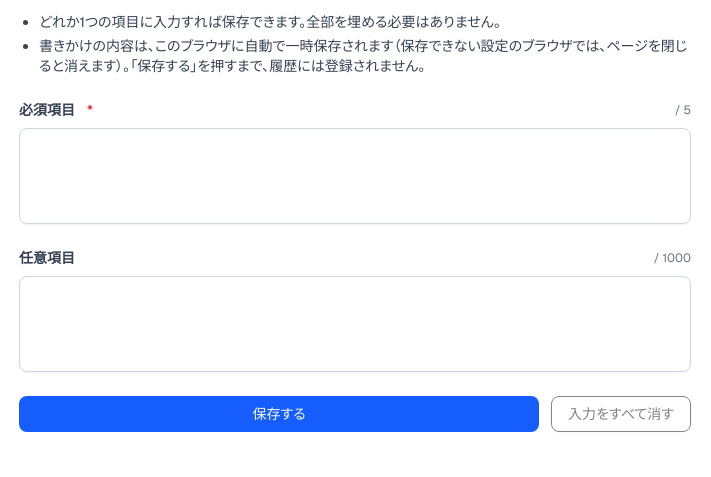
Test: ReflectionForm 入力し直したときのエラーの再検証 › HTMLを含む値のエラーは、HTMLが残るあいだは消えない
Type "<b>" into the text box labelled "必須項目 *". click: {"x": 355, "y": 176}
box: top-left (19, 128), bottom-right (691, 224)
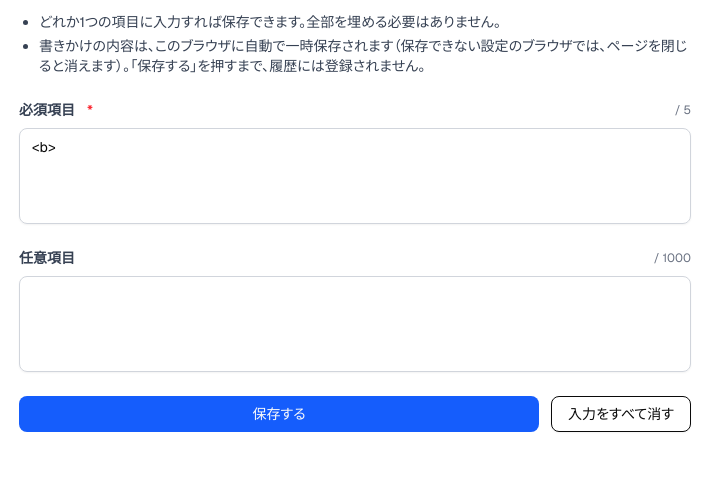
Click the button "保存する". click: {"x": 279, "y": 414}
box: top-left (19, 396), bottom-right (539, 432)
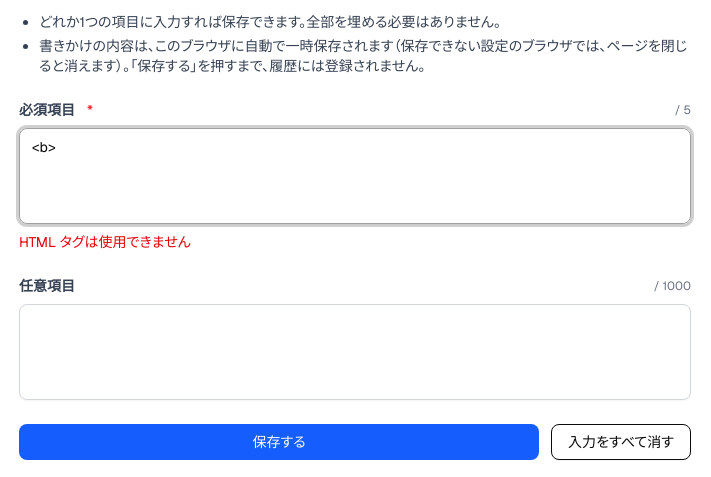
Expected: the text "HTML タグは使用できません" is shown, top-left (19, 233), bottom-right (191, 251)
Replace the text in the text box labelled "必須項目 *" with "<i>". click: {"x": 355, "y": 176}
box: top-left (19, 128), bottom-right (691, 224)
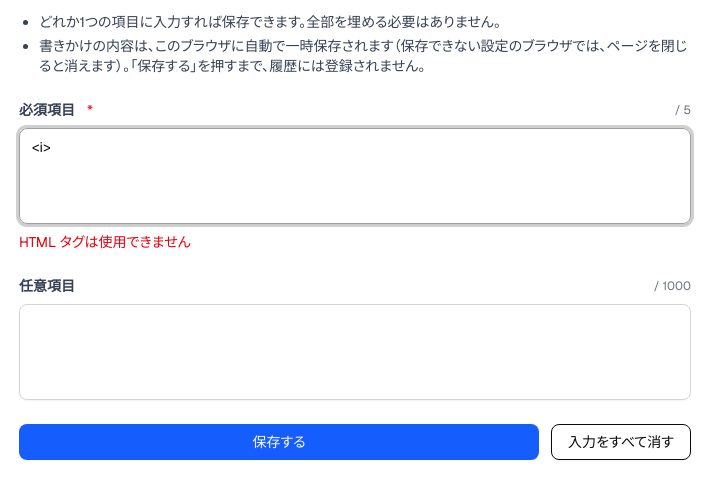
Expected: the text "HTML タグは使用できません" is shown, top-left (19, 233), bottom-right (191, 251)
Replace the text in the text box labelled "必須項目 *" with "abc". click: {"x": 355, "y": 176}
box: top-left (19, 128), bottom-right (691, 224)
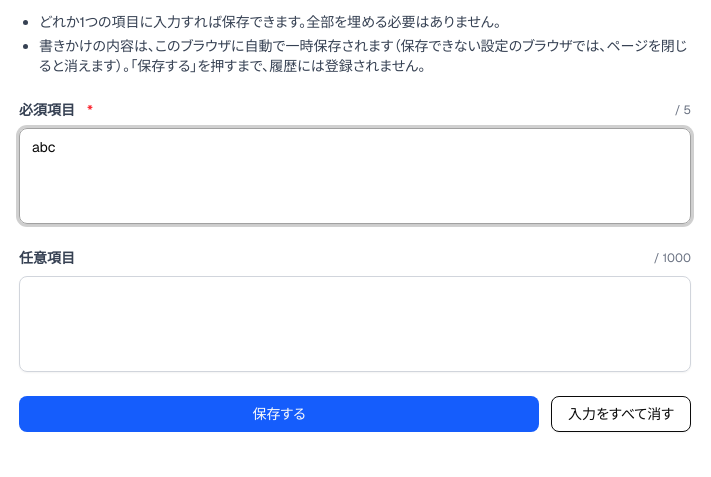
Expected: the text "HTML タグは使用できません" is gone
